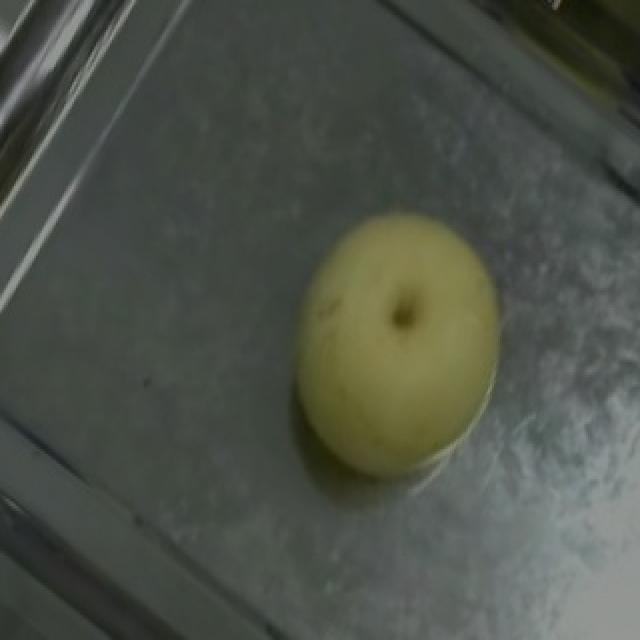Fruit: (244, 166, 552, 514)
